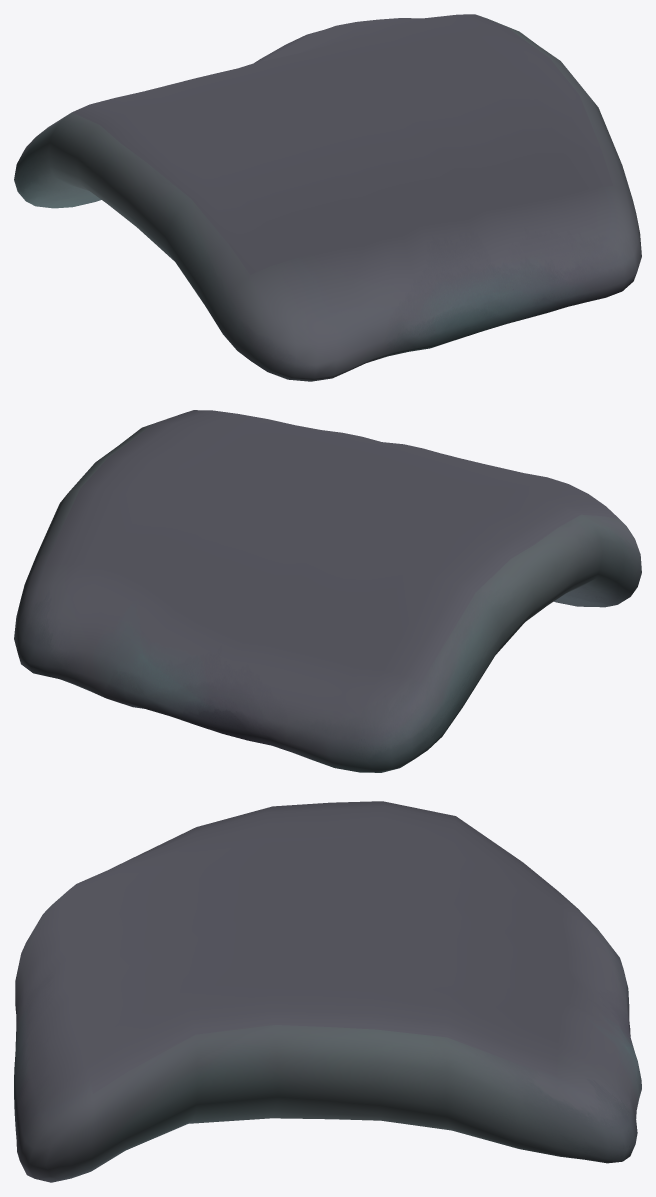
The model's file is RockCeilingCurvy.fbx.
The picture shows the model from 3 angles, top to bottom: view 1: azimuth 30°, elevation 25°; view 2: azimuth 150°, elevation 25°; view 3: azimuth 270°, elevation 25°; orthographic projection. The views are drawn at different scales.
Visible parts, largest first — view 1: RockCeilingCurvy; view 2: RockCeilingCurvy; view 3: RockCeilingCurvy.
Boxes of the visible parts, x1,y1,x2,y2 form: RockCeilingCurvy: [14, 14, 641, 381]; RockCeilingCurvy: [14, 410, 641, 772]; RockCeilingCurvy: [14, 801, 641, 1182].
Bounding box in the file's own units: 317 × 117 × 330.
Materials: 1 (1 with a texture image).
